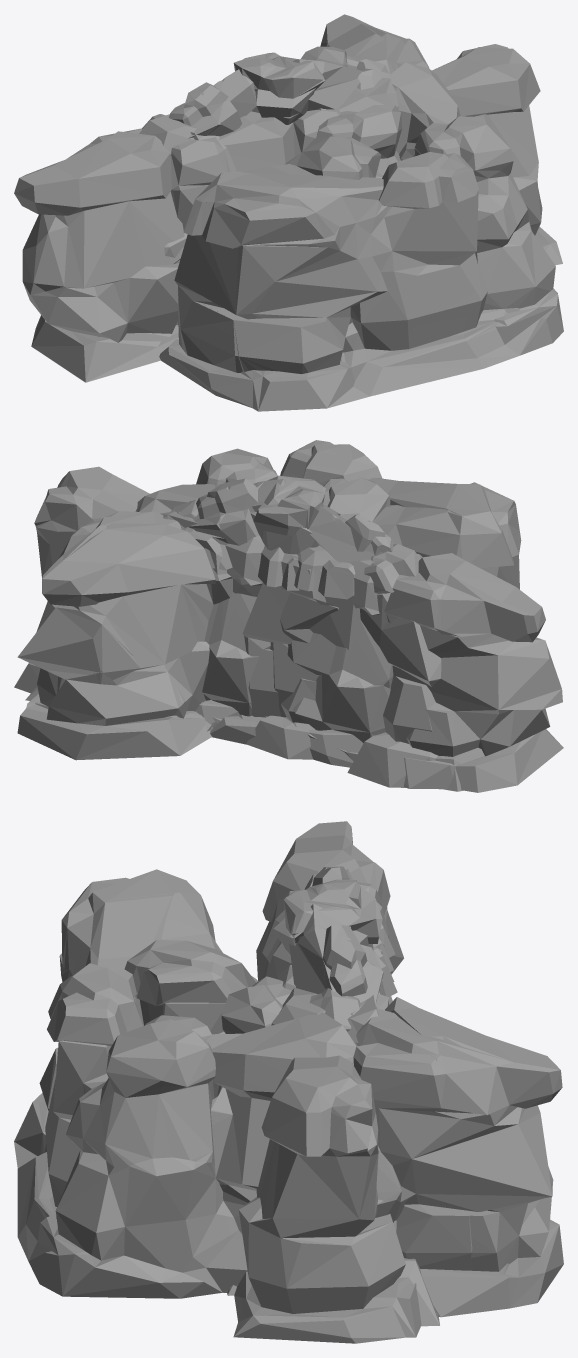
Rendered from rocks_pack.glb.
3 renders of one model, top to bottom at view 1: azimuth 30°, elevation 25°; view 2: azimuth 150°, elevation 25°; view 3: azimuth 270°, elevation 25°, orthographic. The views are drawn at different scales.
Parts seen in each view (by area): view 1: rockform.corner.hard.light, rockform.wall.long.light, rockform.corner.soft.light, rockform.arch.light, rockform.wall.short2.light, rockform.wall.short1.light; view 2: rockform.wall.long.light, rockform.corner.soft.light, rockform.arch.light, rockform.corner.hard.light, rockform.wall.short2.light, rockform.wall.short1.light, rockform.column.light; view 3: rockform.corner.hard.light, rockform.wall.long.light, rockform.corner.soft.light, rockform.arch.light, rockform.wall.short1.light, rockform.wall.short2.light.
Boxes of the visible parts, x1=… form: rockform.corner.hard.light: x1=191, y1=14, x2=563, y2=411; rockform.wall.long.light: x1=14, y1=44, x2=562, y2=382; rockform.corner.soft.light: x1=159, y1=14, x2=402, y2=411; rockform.arch.light: x1=98, y1=46, x2=390, y2=341; rockform.wall.short2.light: x1=219, y1=108, x2=340, y2=171; rockform.wall.short1.light: x1=338, y1=78, x2=399, y2=140; rockform.wall.long.light: x1=14, y1=466, x2=563, y2=792; rockform.corner.soft.light: x1=17, y1=477, x2=519, y2=760; rockform.arch.light: x1=25, y1=475, x2=484, y2=791; rockform.corner.hard.light: x1=17, y1=440, x2=521, y2=717; rockform.wall.short2.light: x1=196, y1=534, x2=338, y2=759; rockform.wall.short1.light: x1=190, y1=500, x2=363, y2=767; rockform.column.light: x1=210, y1=545, x2=299, y2=744; rockform.corner.hard.light: x1=14, y1=869, x2=562, y2=1314; rockform.wall.long.light: x1=227, y1=821, x2=421, y2=1343; rockform.corner.soft.light: x1=14, y1=869, x2=563, y2=1317; rockform.arch.light: x1=273, y1=866, x2=439, y2=1326; rockform.wall.short1.light: x1=271, y1=923, x2=395, y2=1025; rockform.wall.short2.light: x1=265, y1=941, x2=385, y2=995.
Bounding box in the file's own units: 42.26 × 19.48 × 31.39.
1 material, 1 textured.
